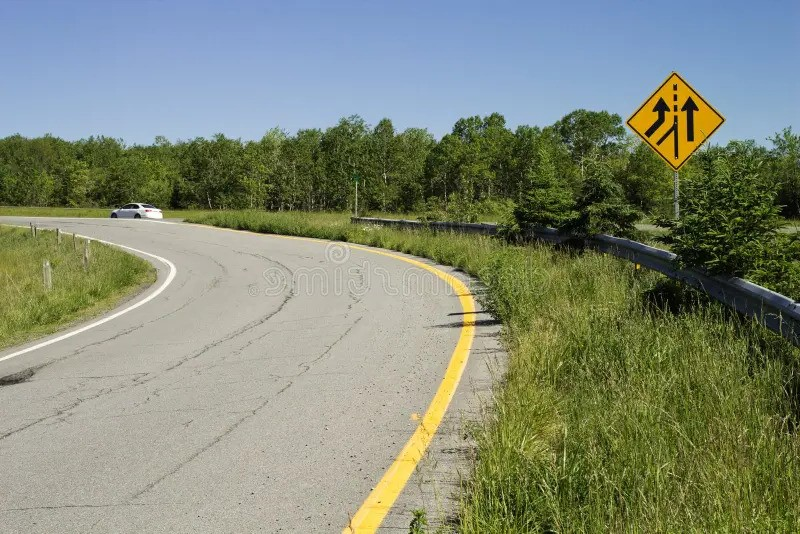leftTrun: (94, 214, 481, 418)
